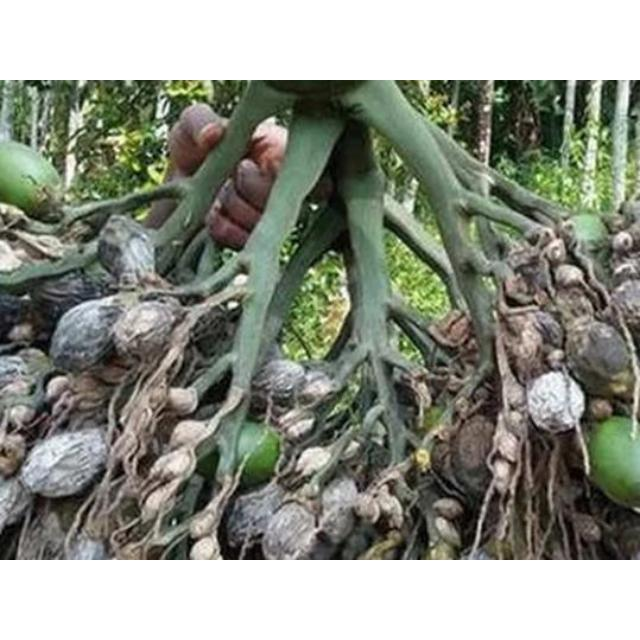damaged: (6, 145, 640, 561)
